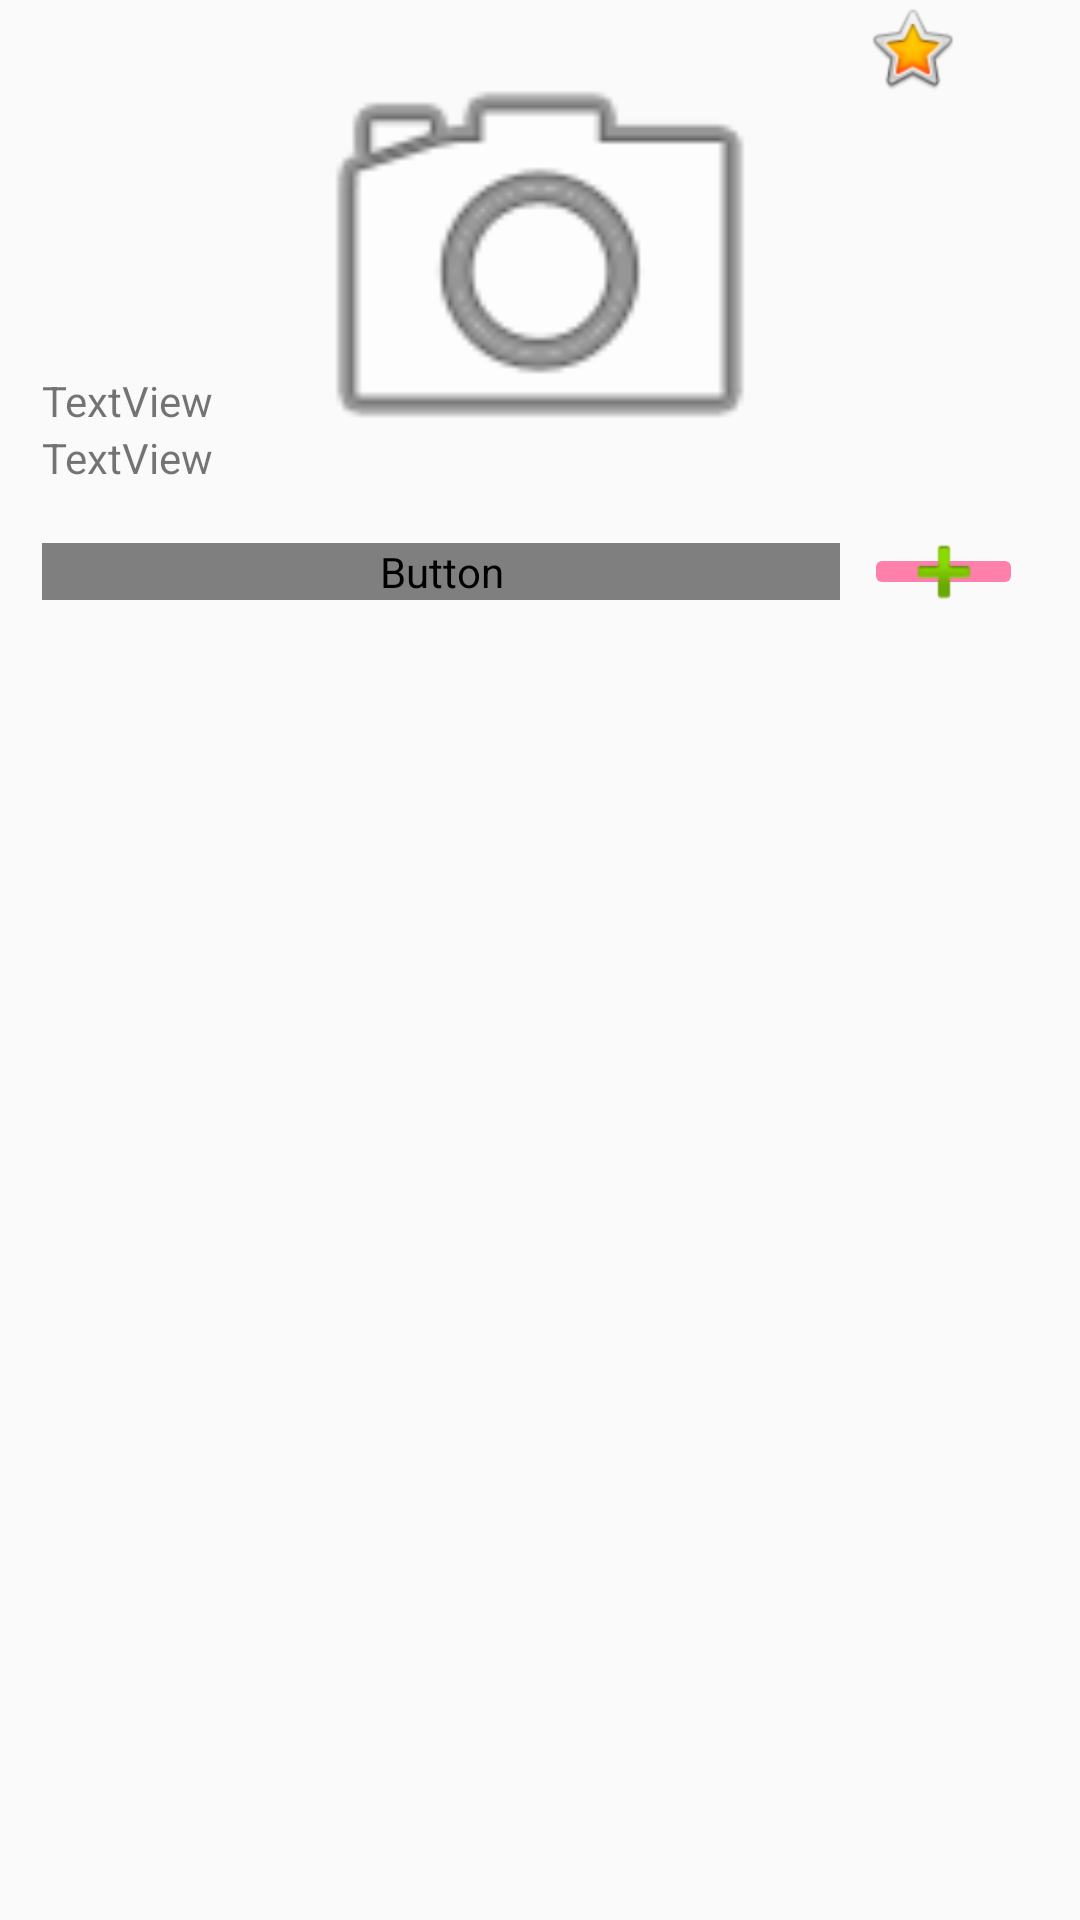

Where to tap for icons on this 1080*1920 app screen, as point (x, y):
star on: point (913, 49)
